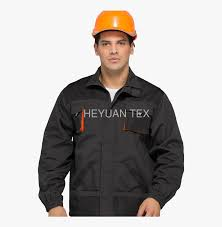Person_wearing_helmet: (87, 6, 144, 48)
